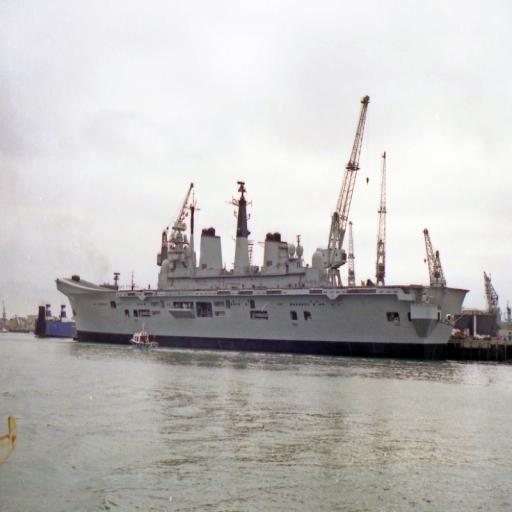Portanaves: (55, 185, 473, 350)
